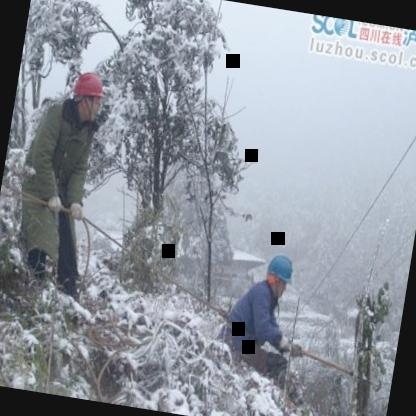helmet: (66, 64, 112, 122), (260, 250, 298, 300)
